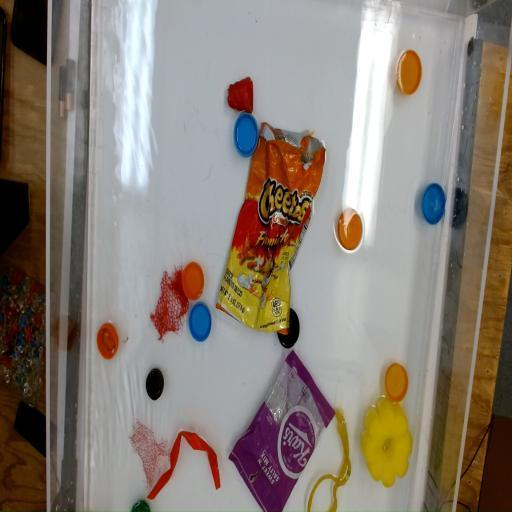Bottle Cap: (337, 204, 364, 252), (232, 113, 260, 159), (396, 49, 422, 97), (421, 181, 446, 225), (96, 320, 120, 360), (384, 362, 408, 402), (183, 260, 205, 302), (278, 308, 300, 348), (189, 303, 211, 342), (146, 369, 166, 401), (127, 498, 156, 512)
Cone Cap: (226, 74, 254, 114)
Netting: (128, 420, 173, 494), (150, 267, 188, 345)
Plastic Bag: (216, 123, 326, 333), (230, 350, 335, 510)
Plastic Strand: (146, 424, 222, 506), (308, 401, 352, 512)
Sponge: (360, 394, 414, 490)
